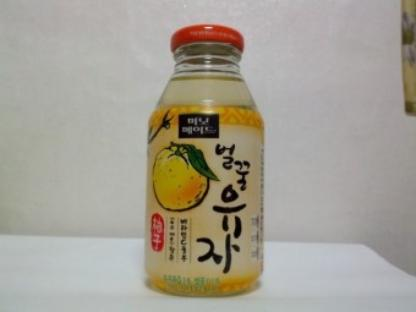Glass Bottle: (143, 26, 264, 296)
